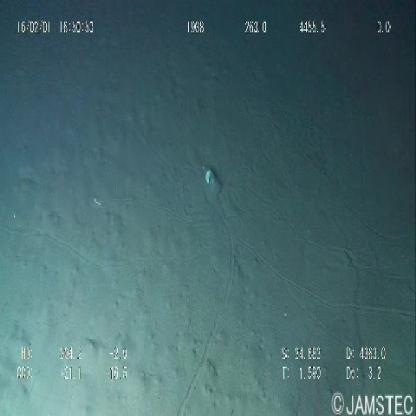Rác: (195, 151, 241, 216)
